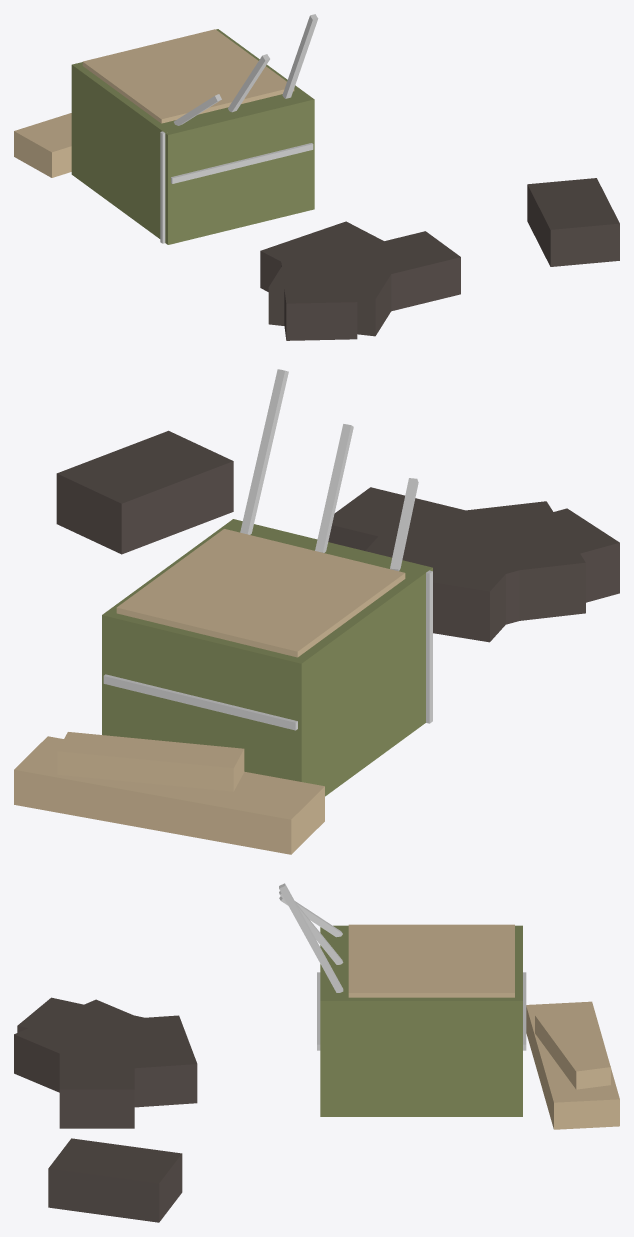
Rendered from SM_HescoCorto1_v0_MallaLimpia_e2_MuyDanado_LOD0.fbx.
3 views of the same model, one above another, from view 1: azimuth 30°, elevation 25°; view 2: azimuth 150°, elevation 25°; view 3: azimuth 270°, elevation 25° (orthographic). The views are drawn at different scales.
Visible parts, largest first — view 1: SM_hesco_piezas_v42_LOD0; view 2: SM_hesco_piezas_v42_LOD0; view 3: SM_hesco_piezas_v42_LOD0.
Part boxes in pixels (x1=…): SM_hesco_piezas_v42_LOD0: x1=14, y1=14, x2=619, y2=340; SM_hesco_piezas_v42_LOD0: x1=14, y1=369, x2=619, y2=854; SM_hesco_piezas_v42_LOD0: x1=14, y1=883, x2=619, y2=1222.
Bounding box in the file's own units: 2.76 × 1.48 × 3.64.
